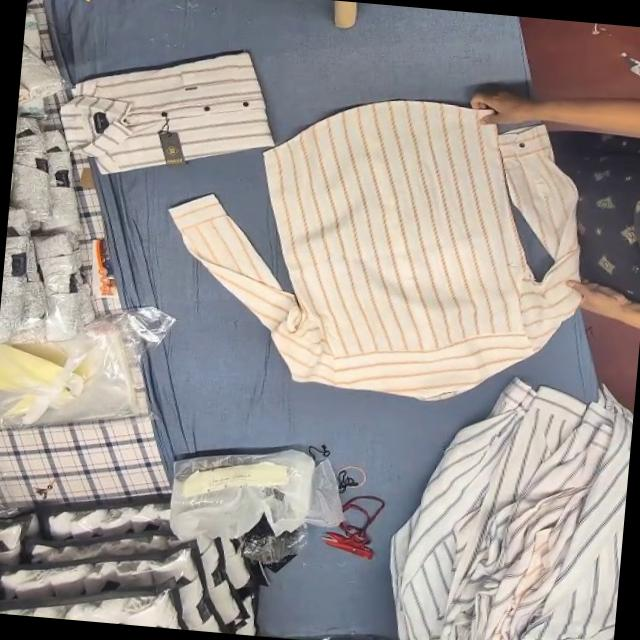new-garment: (170, 100, 577, 398)
